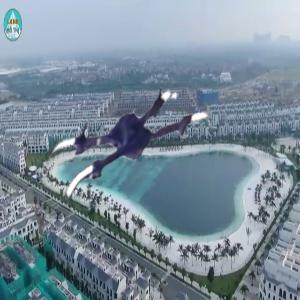drone: (53, 74, 215, 236)
